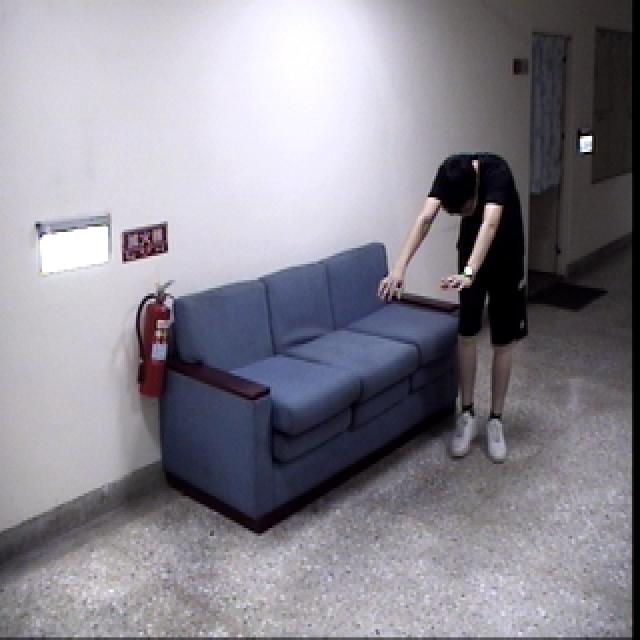bend: (374, 147, 542, 472)
